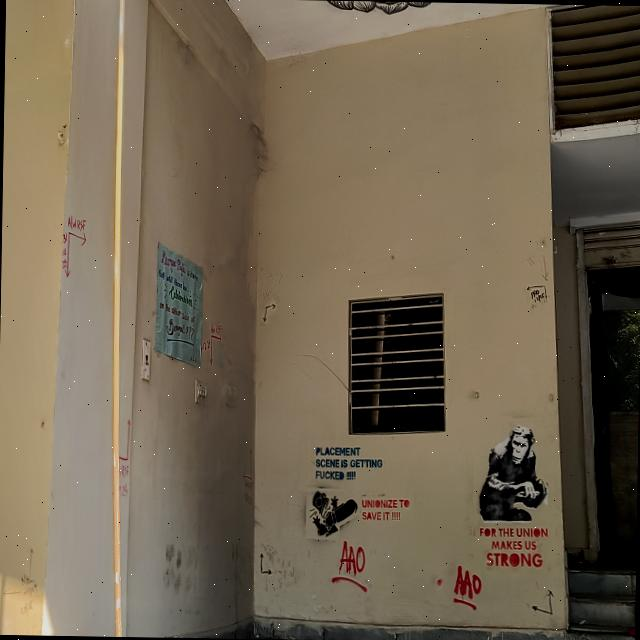Graffiti: (460, 403, 555, 580), (298, 487, 418, 603), (314, 0, 446, 40), (1, 532, 56, 628), (44, 204, 104, 288), (301, 436, 390, 486), (106, 397, 145, 503), (427, 559, 495, 617), (519, 245, 556, 326), (197, 297, 236, 372), (240, 433, 260, 512), (527, 582, 558, 621), (257, 288, 286, 329), (253, 543, 276, 586)
